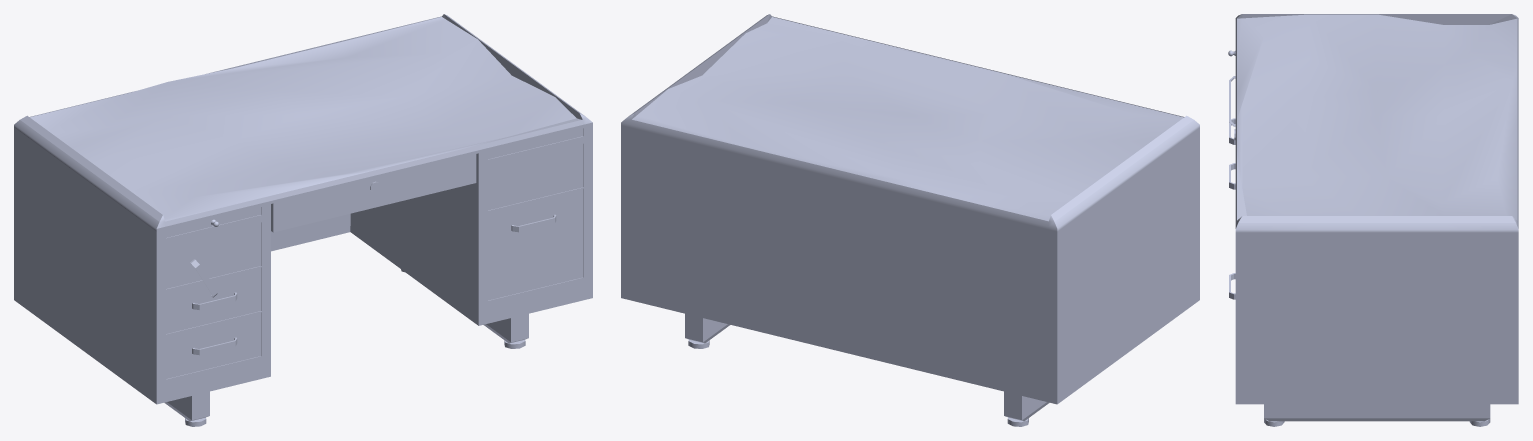
Rendered from DeskAF.fbx.
The picture shows the model from 3 angles, left to right: view 1: azimuth 30°, elevation 25°; view 2: azimuth 150°, elevation 25°; view 3: azimuth 270°, elevation 25°; orthographic projection.
Parts seen in each view (by area): view 1: desk1, middleDrawer1, deskLegs1; view 2: desk1, deskLegs1; view 3: desk1, deskLegs1.
Part boxes in pixels (<box>): desk1: <box>14,14,592,404</box>; middleDrawer1: <box>271,154,476,232</box>; deskLegs1: <box>164,269,528,426</box>; desk1: <box>621,14,1199,404</box>; deskLegs1: <box>685,313,1049,426</box>; desk1: <box>1235,14,1518,404</box>; deskLegs1: <box>1264,404,1490,426</box>.
Size of the model in its own units: 152 by 77 by 88.22.
